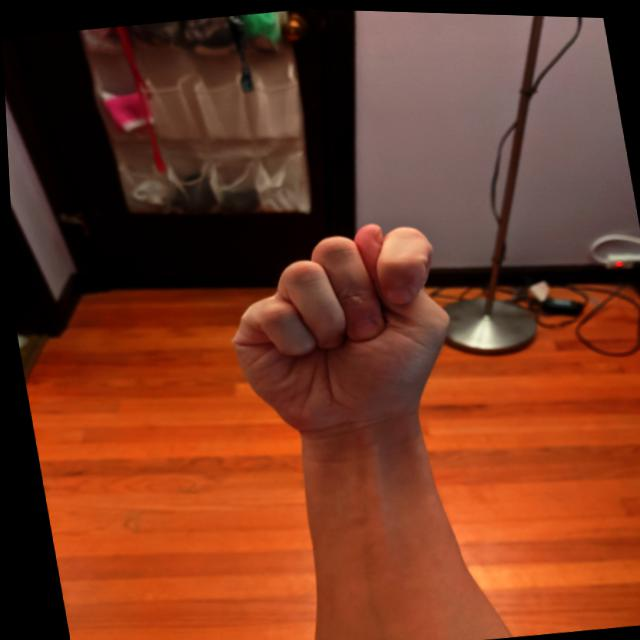T: (202, 202, 472, 453)
